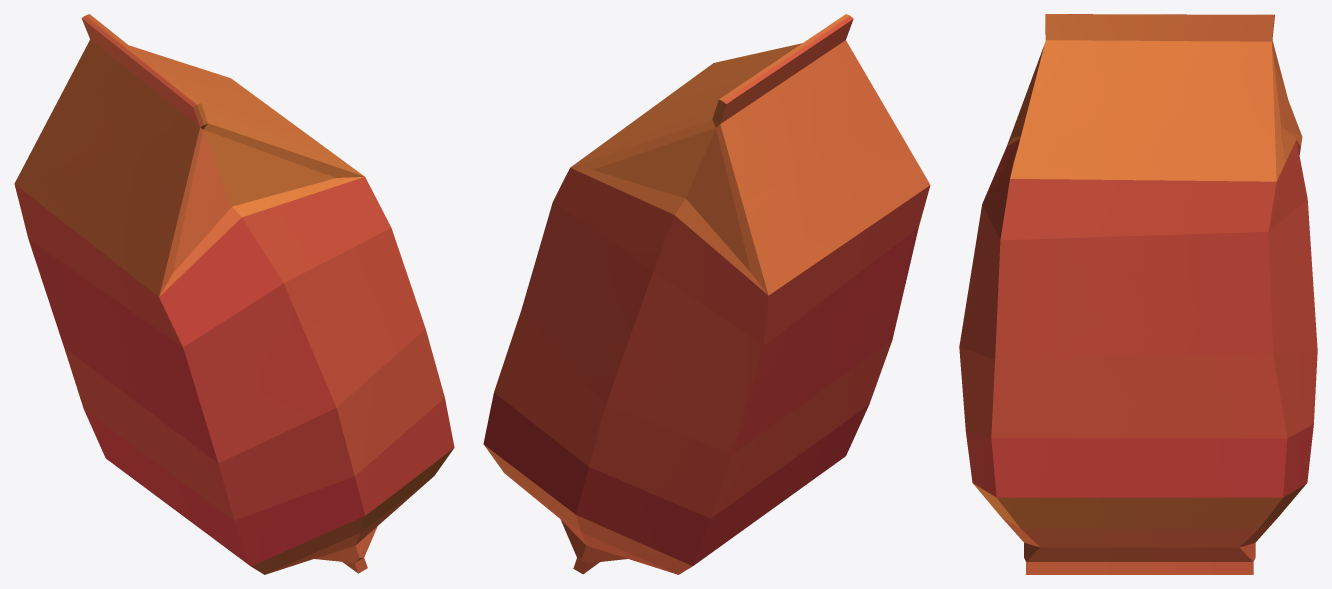
File: Store_CornBaggems.fbx
3 views of the same model, side by side, from view 1: azimuth 30°, elevation 25°; view 2: azimuth 150°, elevation 25°; view 3: azimuth 270°, elevation 25° (orthographic). The views are drawn at different scales.
Parts seen in each view (by area): view 1: MilkSnack!.001; view 2: MilkSnack!.001; view 3: MilkSnack!.001.
Boxes of the visible parts, x1=… form: MilkSnack!.001: x1=14, y1=14, x2=454, y2=574; MilkSnack!.001: x1=483, y1=14, x2=930, y2=574; MilkSnack!.001: x1=959, y1=14, x2=1317, y2=574.
Bounding box in the file's own units: 15.58 × 25.7 × 17.04.
